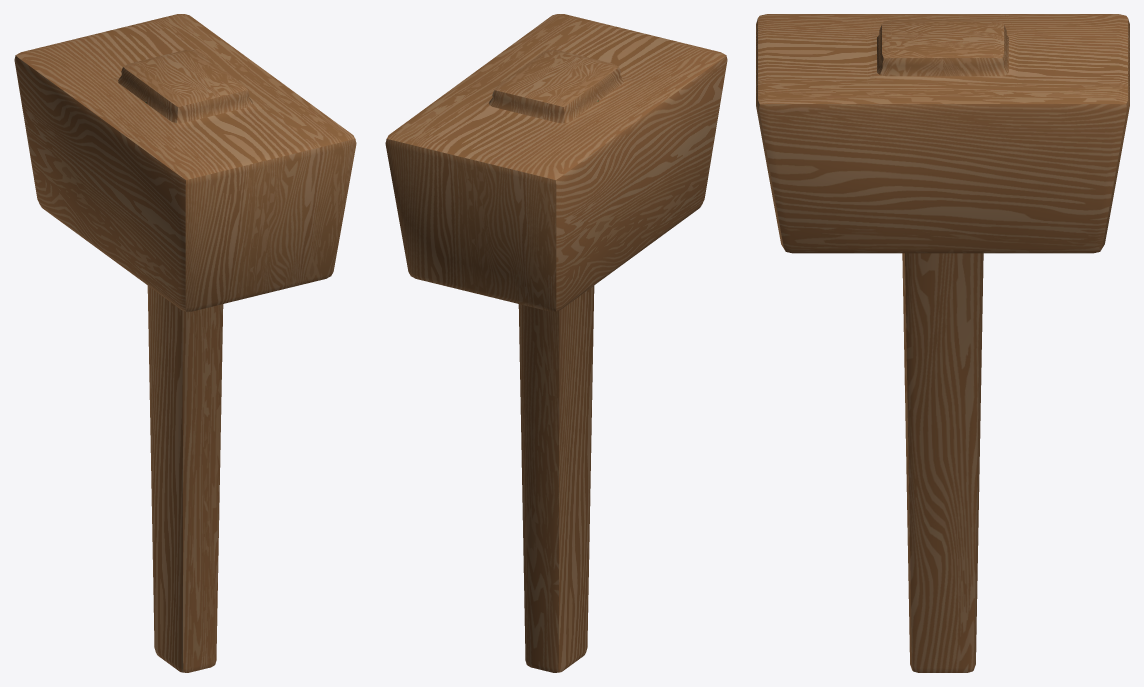
Rendered from Mallet.fbx.
3 renders of one model, left to right at view 1: azimuth 30°, elevation 25°; view 2: azimuth 150°, elevation 25°; view 3: azimuth 270°, elevation 25°, orthographic. The views are drawn at different scales.
Visible parts, largest first — view 1: mallet; view 2: mallet; view 3: mallet.
Part boxes in pixels (<box>): mallet: <box>14,14,356,672</box>; mallet: <box>385,14,727,672</box>; mallet: <box>756,14,1129,672</box>.
Size of the model in its own units: 19.48 by 62.01 by 33.4.
